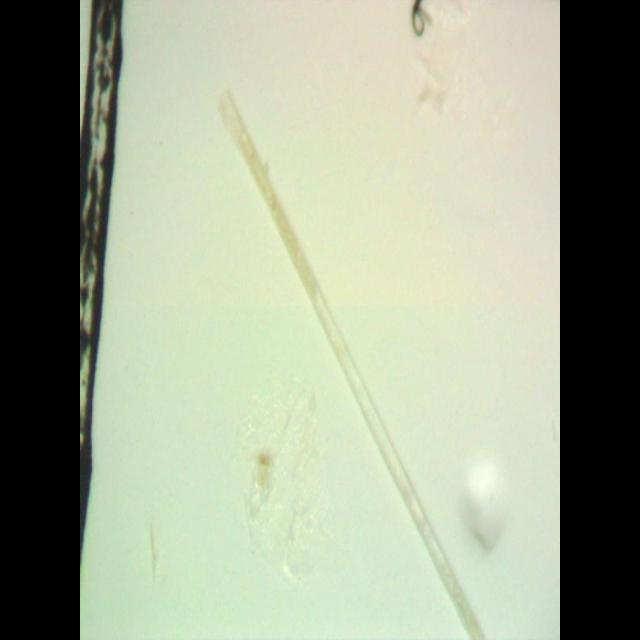Fibre: (216, 84, 486, 638)
